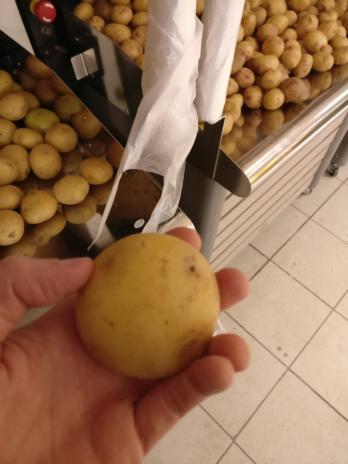Floury potato: (75, 230, 223, 385)
Solid potato: (75, 229, 222, 385), (0, 74, 108, 249), (250, 0, 348, 79)
